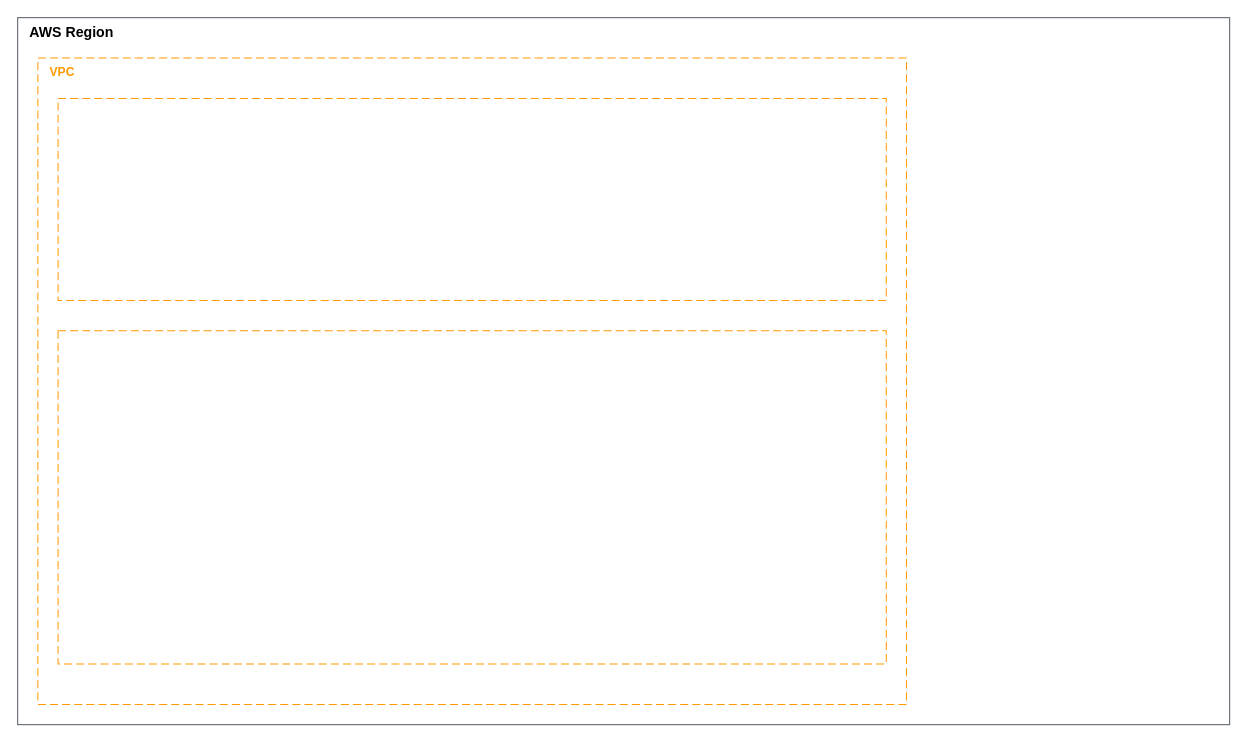
This 1247x742 diagram has some shape labels left out. Here are the shapes that lost their labels. From the top down, the box of each, then its label:
(57, 97, 886, 300): Public Subnet
(57, 330, 886, 664): Private Subnet
